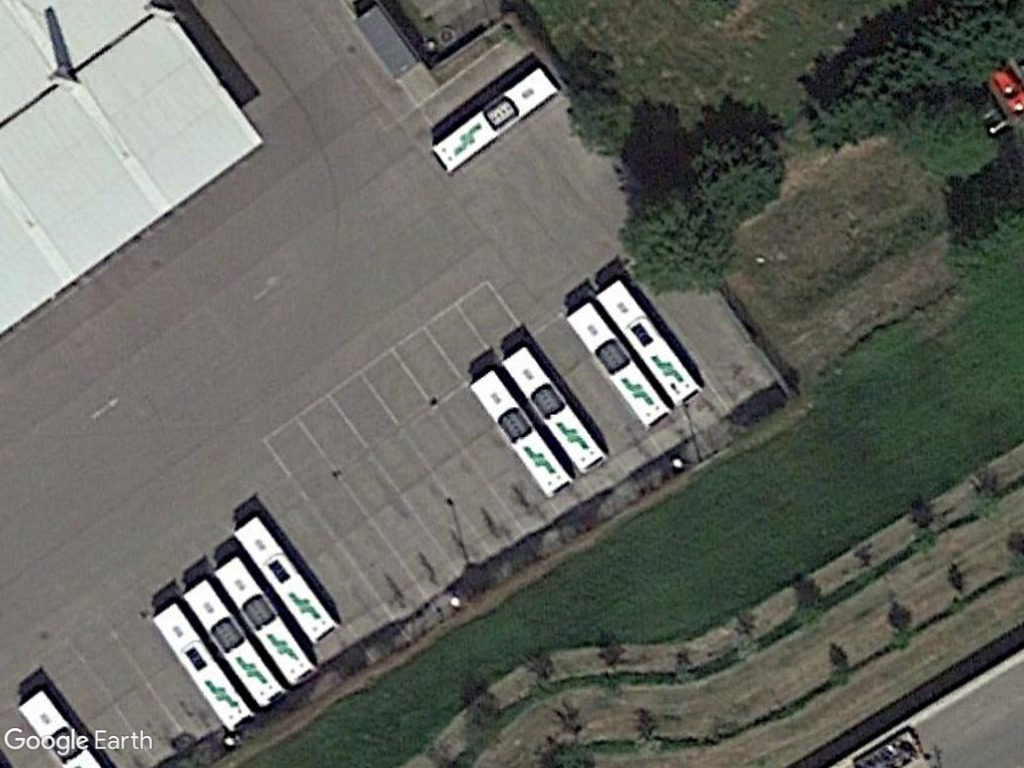bus: (177, 572, 291, 712), (465, 362, 576, 503), (501, 336, 609, 477), (427, 63, 562, 174), (565, 293, 673, 431), (594, 276, 704, 411), (210, 552, 319, 688), (233, 512, 340, 647), (151, 599, 254, 737)
